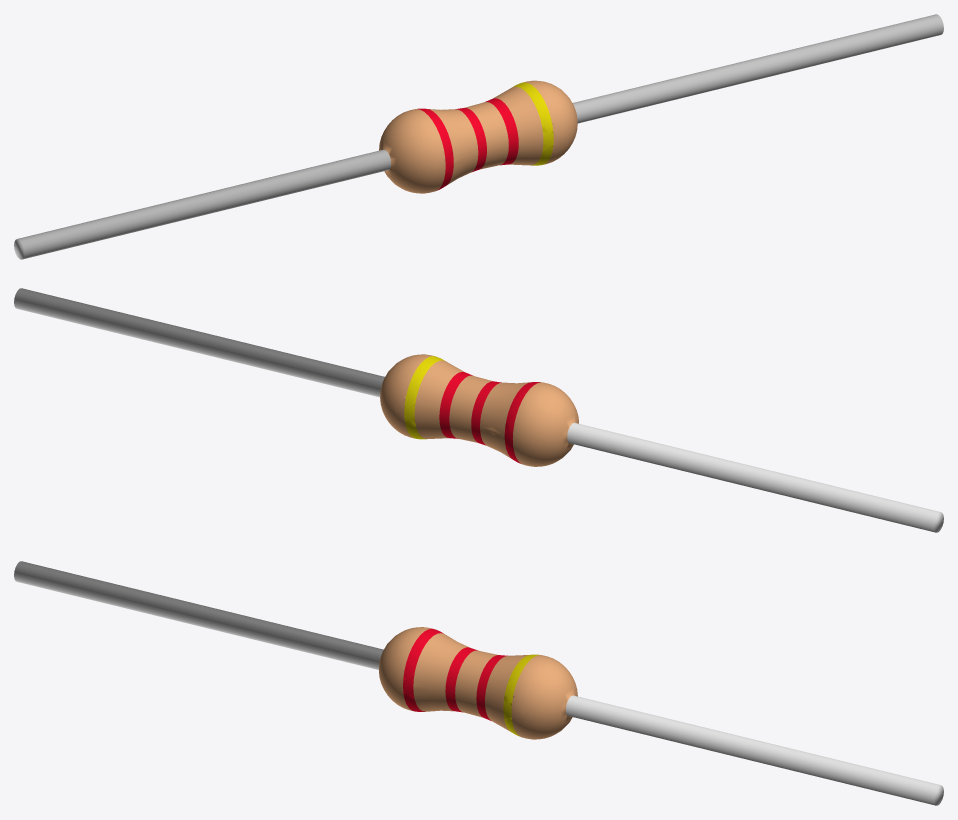
Rendered from resistor_2k2ohms.glb.
The picture shows the model from 3 angles, top to bottom: view 1: azimuth 30°, elevation 25°; view 2: azimuth 150°, elevation 25°; view 3: azimuth 330°, elevation 25°; orthographic projection.
Parts seen in each view (by area): view 1: METAL-material, CERAMICA-material, VERMELHO-material, OURO-material; view 2: METAL-material, CERAMICA-material, VERMELHO-material, OURO-material; view 3: METAL-material, CERAMICA-material, VERMELHO-material, OURO-material.
Part boxes in pixels (x1,y1,x2,y2): METAL-material: (14, 14, 943, 259); CERAMICA-material: (379, 80, 577, 193); VERMELHO-material: (417, 98, 518, 190); OURO-material: (513, 82, 553, 165); METAL-material: (14, 288, 943, 532); CERAMICA-material: (380, 354, 578, 466); VERMELHO-material: (439, 372, 540, 463); OURO-material: (404, 356, 444, 439); METAL-material: (14, 561, 943, 805); CERAMICA-material: (379, 627, 577, 739); VERMELHO-material: (403, 628, 507, 720); OURO-material: (503, 654, 538, 736).
Bounding box in the file's own units: 0.0299 × 0.0024 × 0.00241.
